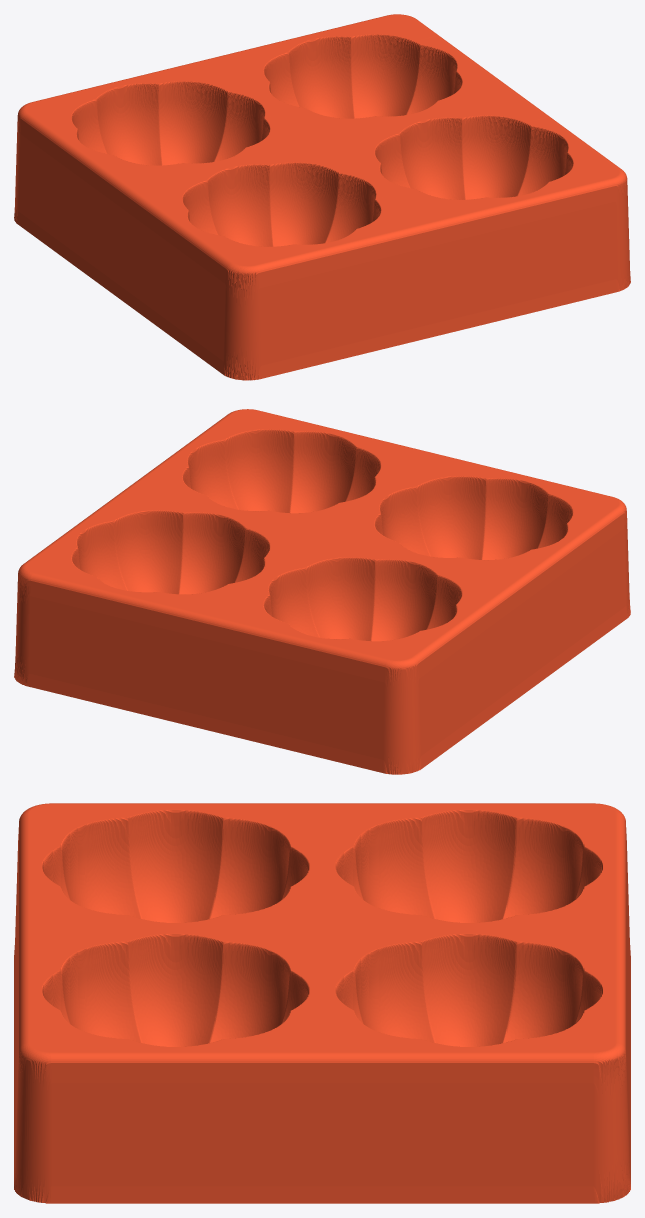
Rendered from mold.glb.
The picture shows the model from 3 angles, top to bottom: view 1: azimuth 30°, elevation 25°; view 2: azimuth 150°, elevation 25°; view 3: azimuth 270°, elevation 25°; orthographic projection. The views are drawn at different scales.
Parts seen in each view (by area): view 1: geometry_0; view 2: geometry_0; view 3: geometry_0.
Part boxes in pixels (x1=…): geometry_0: x1=14, y1=14, x2=630, y2=380; geometry_0: x1=14, y1=409, x2=630, y2=774; geometry_0: x1=14, y1=803, x2=630, y2=1203.
Bounding box in the file's own units: 0.1482 × 0.0384 × 0.1482.
